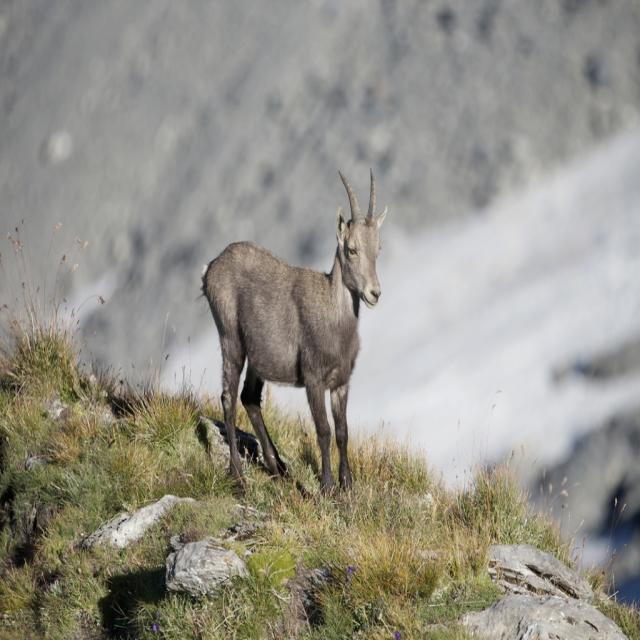Goat: (197, 167, 389, 499)
